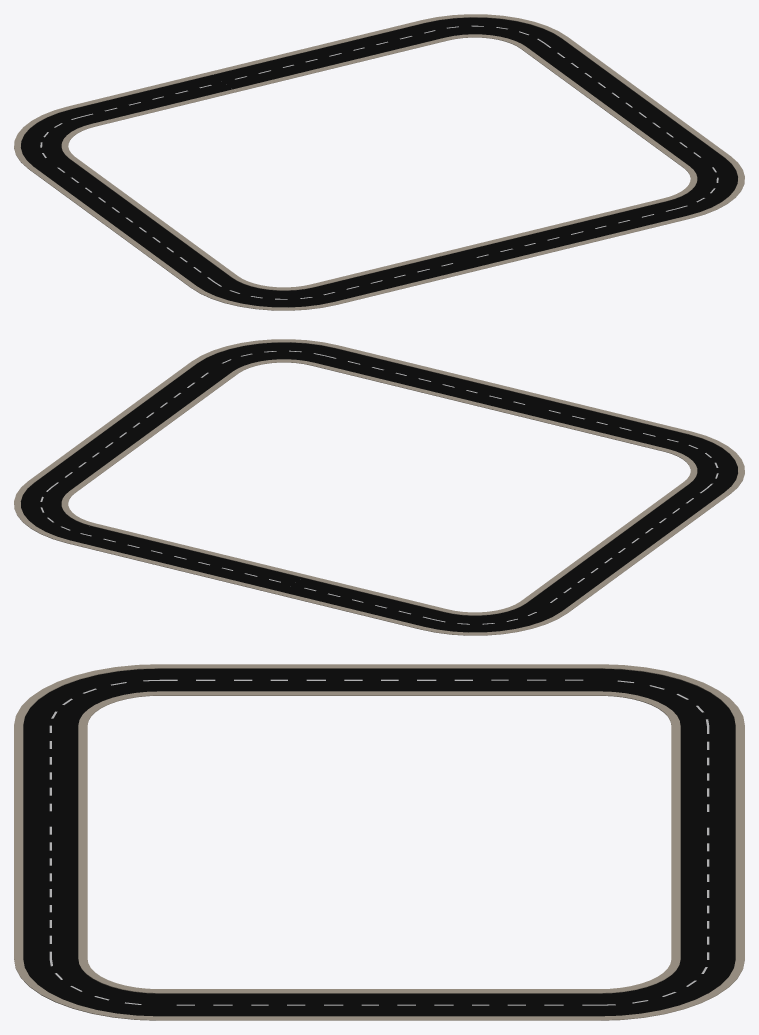
File: pista.obj
3 renders of one model, top to bottom at view 1: azimuth 30°, elevation 25°; view 2: azimuth 150°, elevation 25°; view 3: azimuth 270°, elevation 25°, orthographic. The views are drawn at different scales.
Visible parts, largest first — view 1: C8_Street, C18_Street, C4_Street, C14_Street, SR19_Street, SR2_Street, SR9_Street, SR3_Street, SR13_Street, SR2.002_Street, SR20_Street, SR12_Street (+32 smaller); view 2: C4_Street, C14_Street, C18_Street, C8_Street, SR3_Street, SR13_Street, SR20_Street, SR2_Street, SR2.001_Street, SR2.002_Street, SR19_Street, SR12_Street (+32 smaller); view 3: C18_Street, C14_Street, C8_Street, C4_Street, SR5_Street, SR15.001_Street, SR6_Street, SR7_Street, SR19_Street, SR2_Street, SR10_Street, SR13_Street (+32 smaller).
Boxes of the visible parts, x1,y1,x2,y2 form: C8_Street: [425, 17, 561, 47]; C18_Street: [197, 278, 332, 307]; C4_Street: [667, 158, 737, 215]; C14_Street: [21, 109, 91, 166]; SR19_Street: [313, 270, 403, 301]; SR2_Street: [526, 218, 615, 250]; SR9_Street: [354, 23, 444, 54]; SR3_Street: [596, 201, 686, 232]; SR13_Street: [72, 92, 161, 123]; SR2.002_Street: [213, 57, 303, 89]; SR20_Street: [384, 253, 474, 284]; SR12_Street: [143, 75, 232, 106]; C4_Street: [197, 342, 334, 371]; C14_Street: [424, 603, 560, 632]; C18_Street: [669, 434, 737, 492]; C8_Street: [21, 482, 89, 540]; SR3_Street: [315, 348, 405, 379]; SR13_Street: [354, 595, 443, 626]; SR20_Street: [528, 400, 617, 431]; SR2_Street: [386, 365, 475, 397]; SR2.001_Street: [457, 383, 546, 414]; SR2.002_Street: [212, 560, 302, 592]; SR19_Street: [598, 417, 688, 448]; SR12_Street: [283, 578, 372, 609]; C18_Street: [23, 668, 160, 725]; C14_Street: [601, 668, 735, 726]; C8_Street: [598, 960, 735, 1016]; C4_Street: [23, 959, 158, 1016]; SR5_Street: [158, 993, 268, 1016]; SR15.001_Street: [491, 668, 601, 691]; SR6_Street: [268, 993, 378, 1016]; SR7_Street: [379, 993, 489, 1016]; SR19_Street: [23, 725, 78, 772]; SR2_Street: [23, 865, 78, 912]; SR10_Street: [680, 866, 735, 913]; SR13_Street: [680, 726, 735, 773].
Bounding box in the file's own units: 91.59 × 0.0703 × 79.47.
